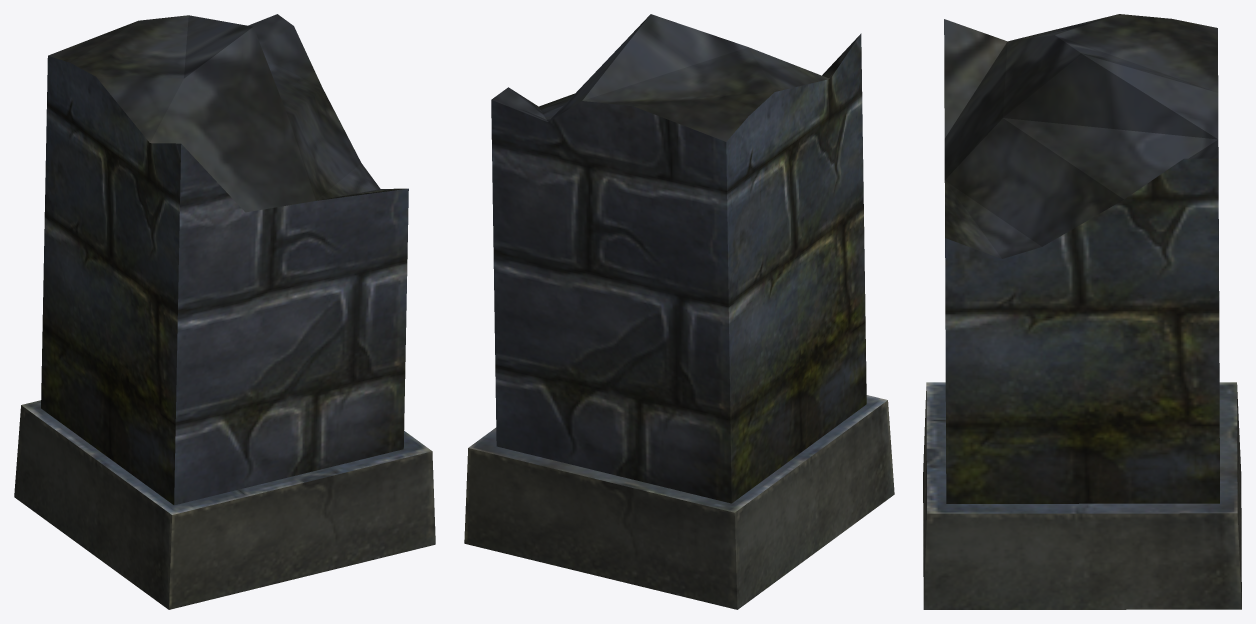
Rendered from C_shizhu002.fbx.
The picture shows the model from 3 angles, left to right: view 1: azimuth 30°, elevation 25°; view 2: azimuth 150°, elevation 25°; view 3: azimuth 270°, elevation 25°; orthographic projection. The views are drawn at different scales.
Parts seen in each view (by area): view 1: C_shizhu002; view 2: C_shizhu002; view 3: C_shizhu002.
Boxes of the visible parts, x1,y1,x2,y2 form: C_shizhu002: (14,14,435,609); C_shizhu002: (464,14,894,609); C_shizhu002: (923,14,1241,609).
Size of the model in its own units: 96.88 by 169 by 96.91.
